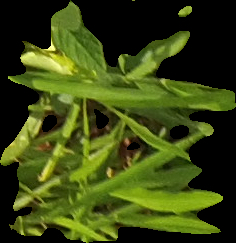grass: (1, 1, 234, 241)
